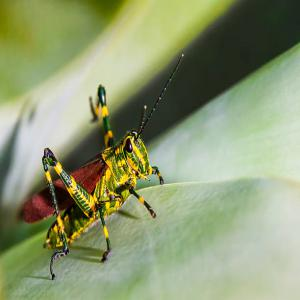locust: (26, 105, 170, 244)
